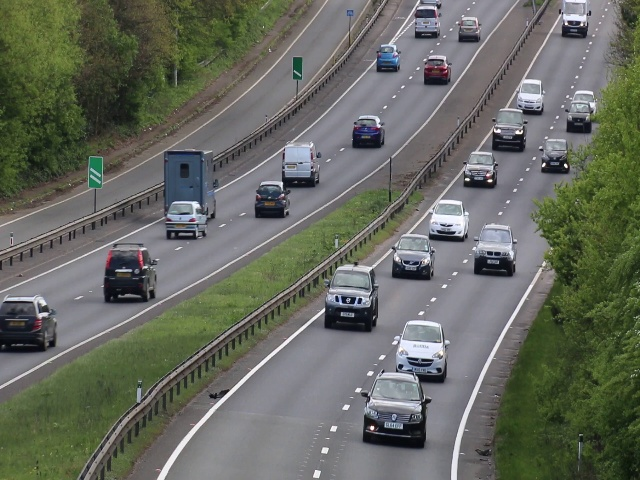car: (362, 368, 429, 446), (161, 150, 219, 215), (325, 264, 380, 330), (100, 241, 157, 304), (395, 317, 448, 382), (1, 292, 57, 350), (471, 222, 518, 276), (391, 233, 434, 279), (281, 140, 322, 187), (426, 197, 469, 238), (163, 199, 207, 239), (492, 107, 526, 150), (255, 177, 290, 217), (462, 150, 496, 190), (350, 113, 385, 150), (560, 1, 588, 39), (515, 78, 544, 114), (566, 96, 595, 132), (542, 136, 568, 176), (422, 53, 452, 87), (412, 5, 440, 40), (373, 40, 402, 70), (456, 17, 481, 41)
